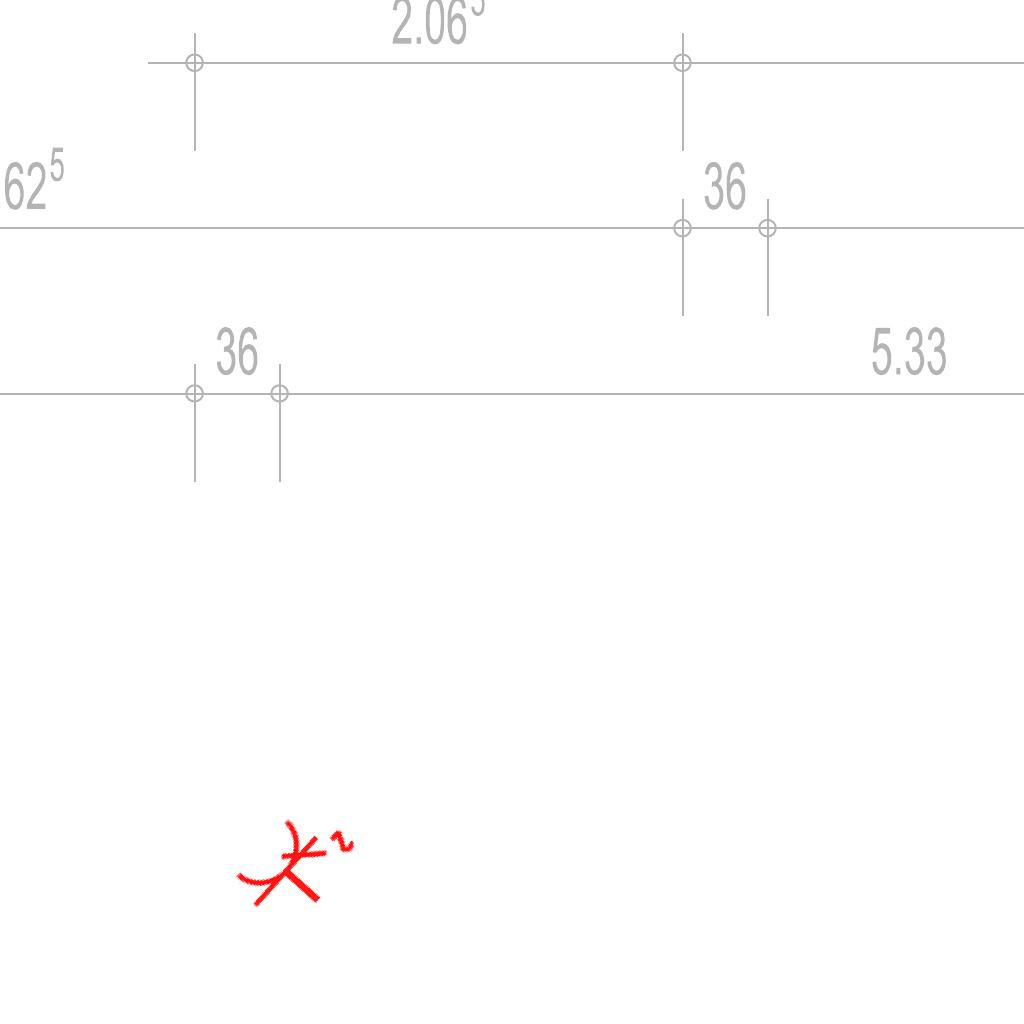Schukosteckdose_mehrfach: (223, 793, 370, 943)
